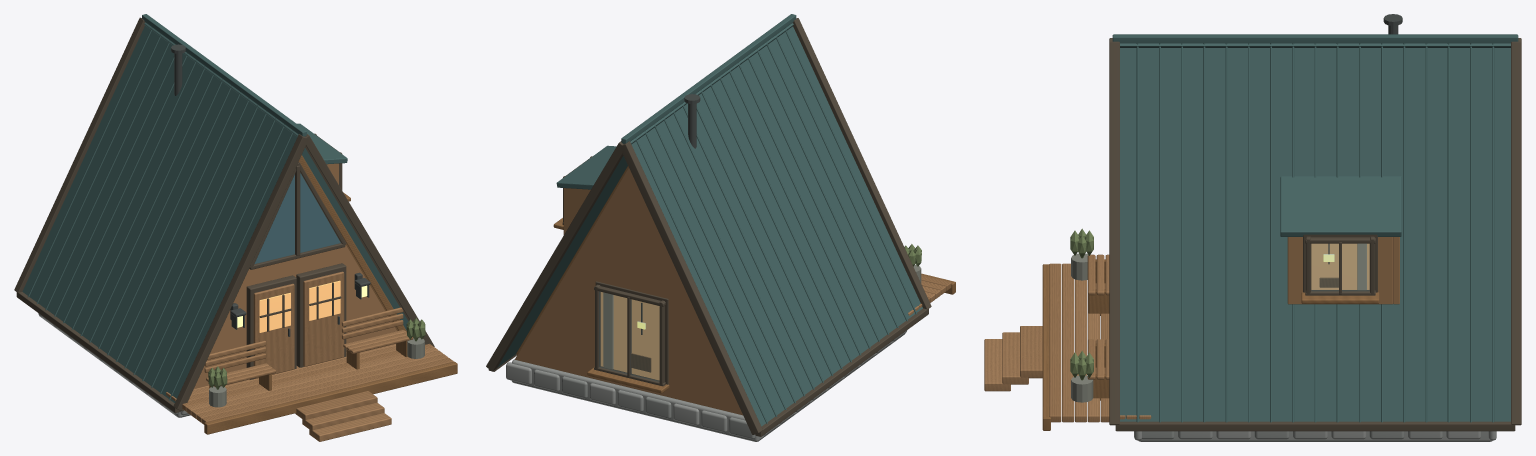
The model's file is Lake_Cabin_AFrame.glb.
The picture shows the model from 3 angles, left to right: view 1: azimuth 30°, elevation 25°; view 2: azimuth 150°, elevation 25°; view 3: azimuth 270°, elevation 25°; orthographic projection. The views are drawn at different scales.
Parts seen in each view (by area): view 1: Cabin_AFrame; view 2: Cabin_AFrame; view 3: Cabin_AFrame.
Boxes of the visible parts, bbox=[...] form: Cabin_AFrame: bbox=[14, 14, 457, 441]; Cabin_AFrame: bbox=[486, 14, 955, 441]; Cabin_AFrame: bbox=[984, 14, 1521, 441].
Size of the model in its own units: 6.76 by 6.84 by 9.67.
Materials: 18 (5 with a texture image).
